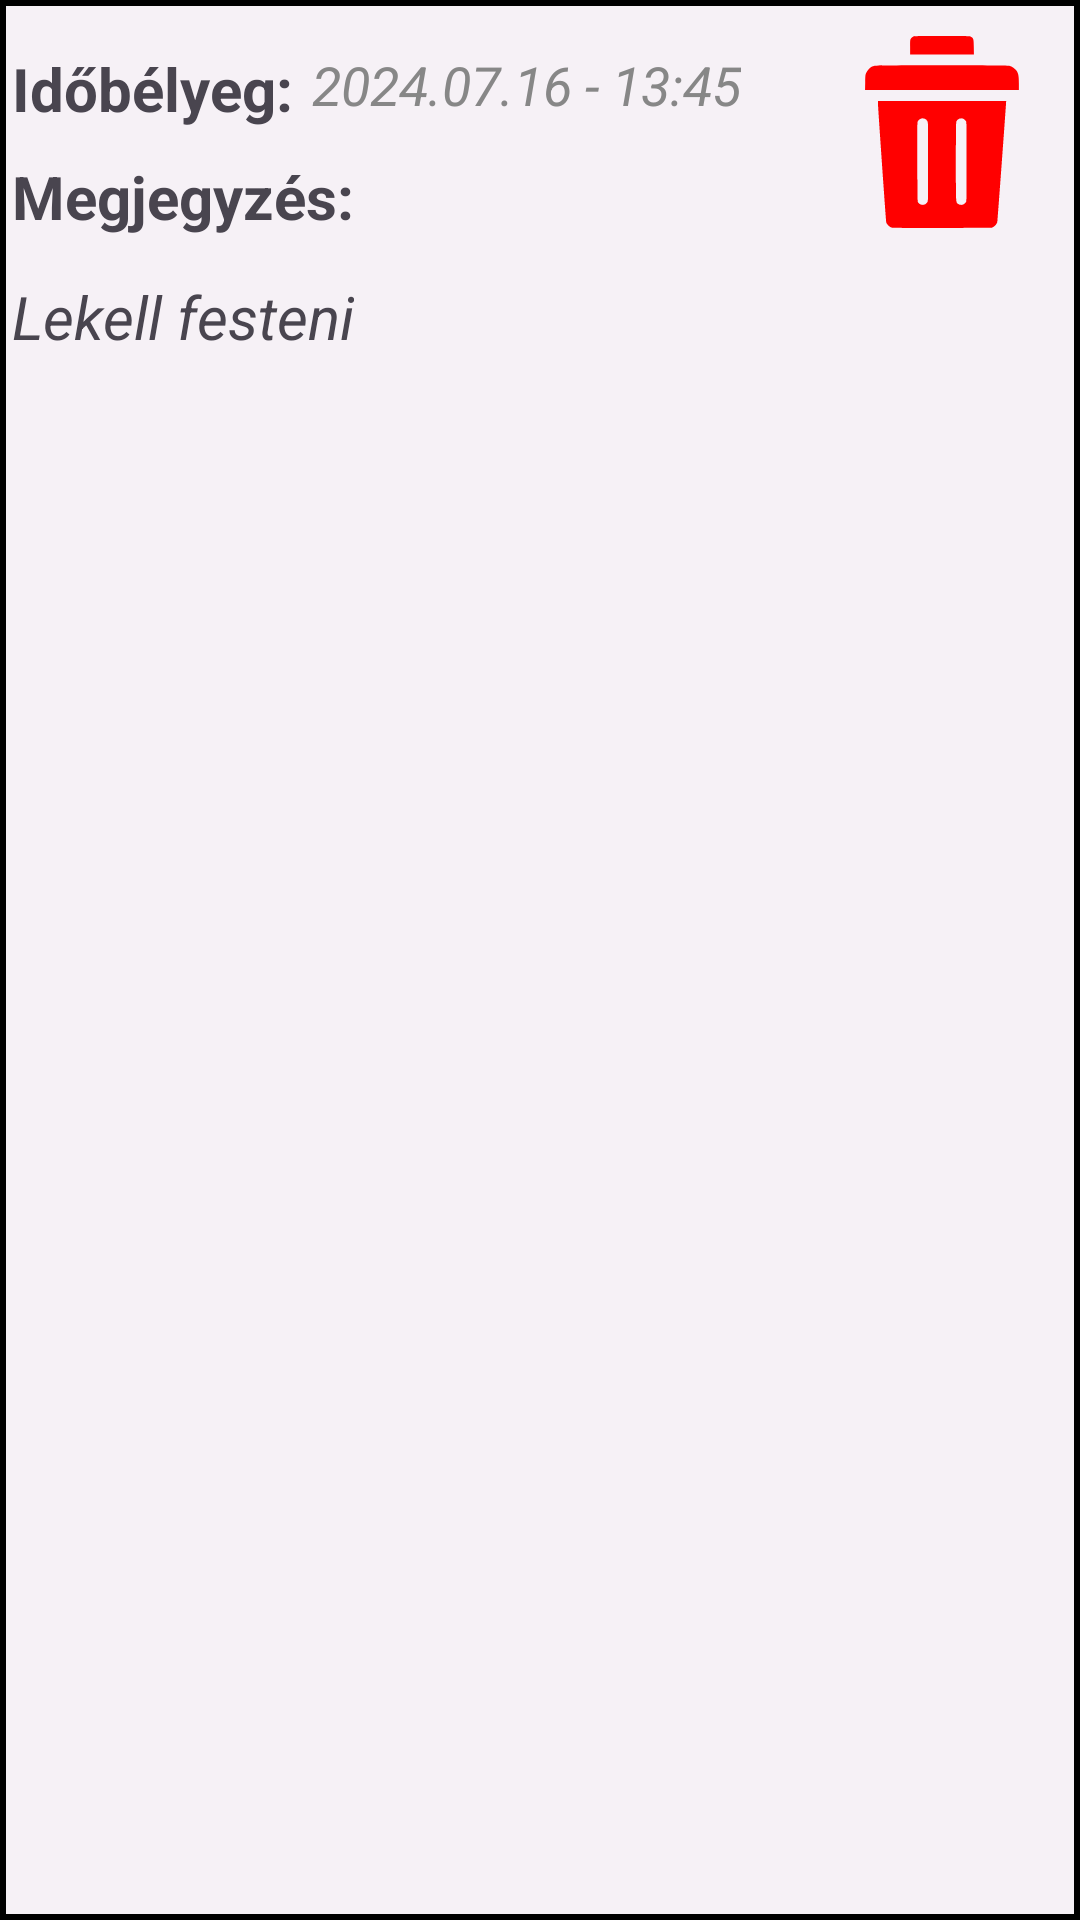

Icons on this 1080×1920 Android screen, each with its box as (x1, y1, x2, y2):
Törlés: (865, 36, 1019, 228)
